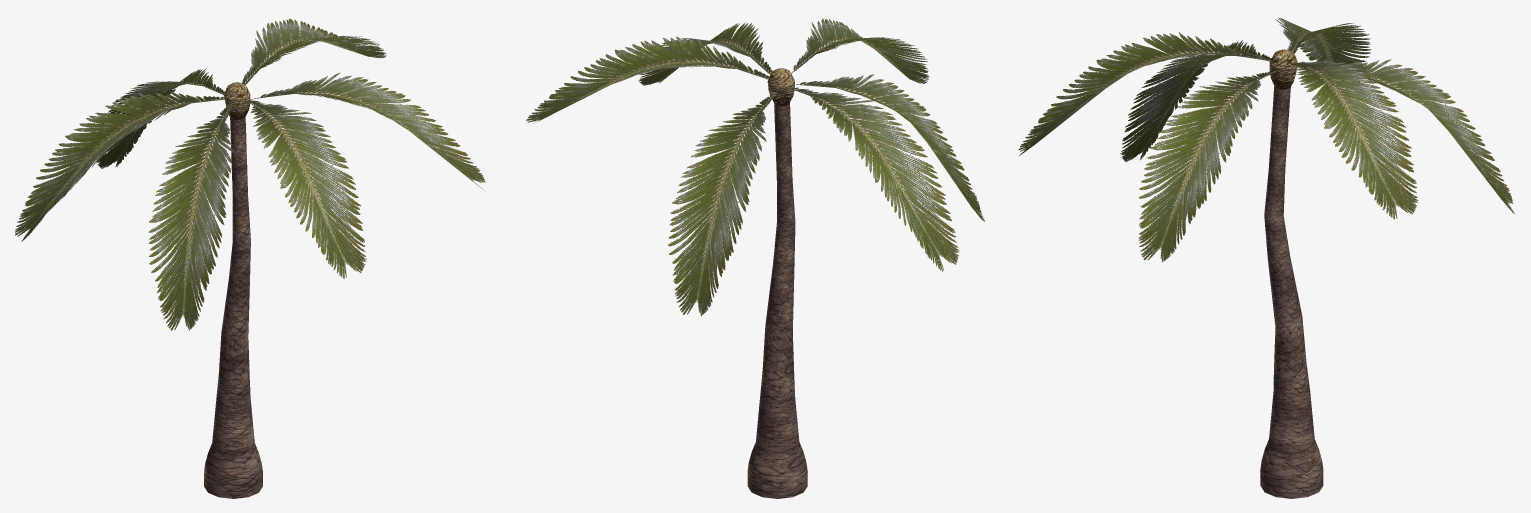
Rendered from PalmTree.fbx.
The picture shows the model from 3 angles, left to right: view 1: azimuth 30°, elevation 25°; view 2: azimuth 150°, elevation 25°; view 3: azimuth 270°, elevation 25°; orthographic projection. The views are drawn at different scales.
Parts seen in each view (by area): view 1: pasted__pCylinder2, pasted__pCylinder2.004, pasted__pCylinder2.006, pasted__pCylinder2.003, pasted__pCylinder2.005, pasted__pCylinder2.001, pasted__pCylinder2.002; view 2: pasted__pCylinder2, pasted__pCylinder2.002, pasted__pCylinder2.003, pasted__pCylinder2.001, pasted__pCylinder2.004, pasted__pCylinder2.006, pasted__pCylinder2.005; view 3: pasted__pCylinder2, pasted__pCylinder2.005, pasted__pCylinder2.001, pasted__pCylinder2.006, pasted__pCylinder2.002, pasted__pCylinder2.004, pasted__pCylinder2.003.
Boxes of the visible parts, x1,y1,x2,y2 form: pasted__pCylinder2: (204, 82, 262, 498); pasted__pCylinder2.004: (148, 104, 234, 330); pasted__pCylinder2.006: (242, 98, 366, 278); pasted__pCylinder2.003: (15, 92, 224, 241); pasted__pCylinder2.005: (251, 72, 485, 191); pasted__pCylinder2.001: (242, 18, 386, 84); pasted__pCylinder2.002: (96, 69, 224, 168); pasted__pCylinder2: (747, 68, 807, 498); pasted__pCylinder2.002: (668, 92, 776, 316); pasted__pCylinder2.003: (789, 87, 958, 271); pasted__pCylinder2.001: (526, 36, 769, 123); pasted__pCylinder2.004: (796, 74, 984, 221); pasted__pCylinder2.006: (791, 18, 929, 83); pasted__pCylinder2.005: (638, 22, 772, 85); pasted__pCylinder2: (1260, 49, 1323, 498); pasted__pCylinder2.005: (1138, 71, 1275, 262); pasted__pCylinder2.001: (1289, 60, 1418, 219); pasted__pCylinder2.006: (1018, 32, 1270, 156); pasted__pCylinder2.002: (1308, 59, 1514, 213); pasted__pCylinder2.004: (1120, 40, 1271, 161); pasted__pCylinder2.003: (1275, 17, 1371, 84).
Bounding box in the file's own units: 263 × 269 × 271.
7 materials, 7 textured.
